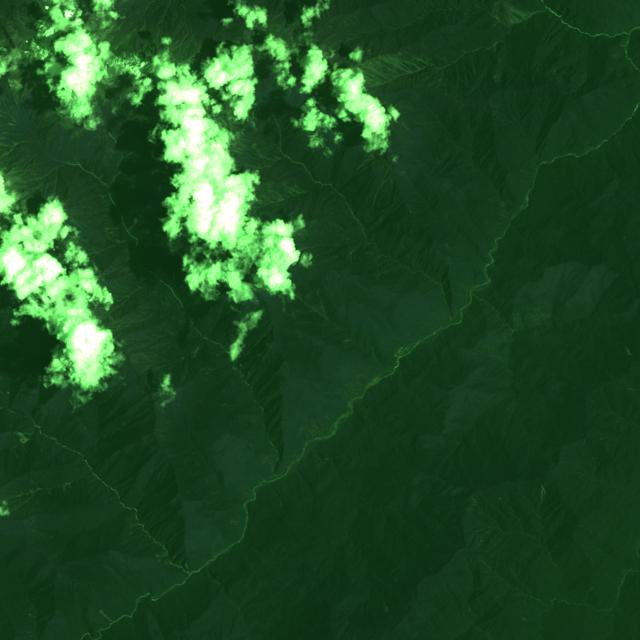landslides: (60, 211, 107, 246), (352, 142, 381, 173), (372, 174, 391, 213), (360, 59, 389, 81), (502, 0, 534, 19), (379, 54, 409, 73), (373, 55, 399, 75), (391, 53, 412, 73), (397, 52, 420, 70), (50, 213, 66, 228), (99, 609, 113, 623), (507, 11, 521, 24), (282, 181, 294, 196), (499, 497, 512, 509), (229, 335, 237, 354), (435, 54, 448, 65), (394, 12, 404, 26), (105, 222, 122, 230), (190, 346, 201, 358), (562, 449, 574, 460), (383, 595, 390, 613), (128, 217, 137, 231), (5, 122, 26, 128), (558, 458, 579, 464), (17, 432, 29, 442), (584, 587, 592, 602), (415, 57, 428, 66), (472, 497, 481, 510), (31, 480, 42, 490), (155, 554, 168, 562), (74, 580, 79, 600)
